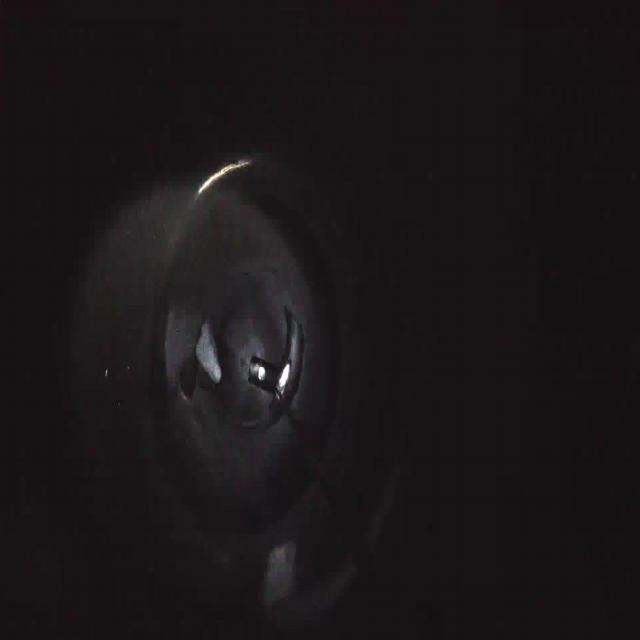impurity: (192, 310, 226, 388)
